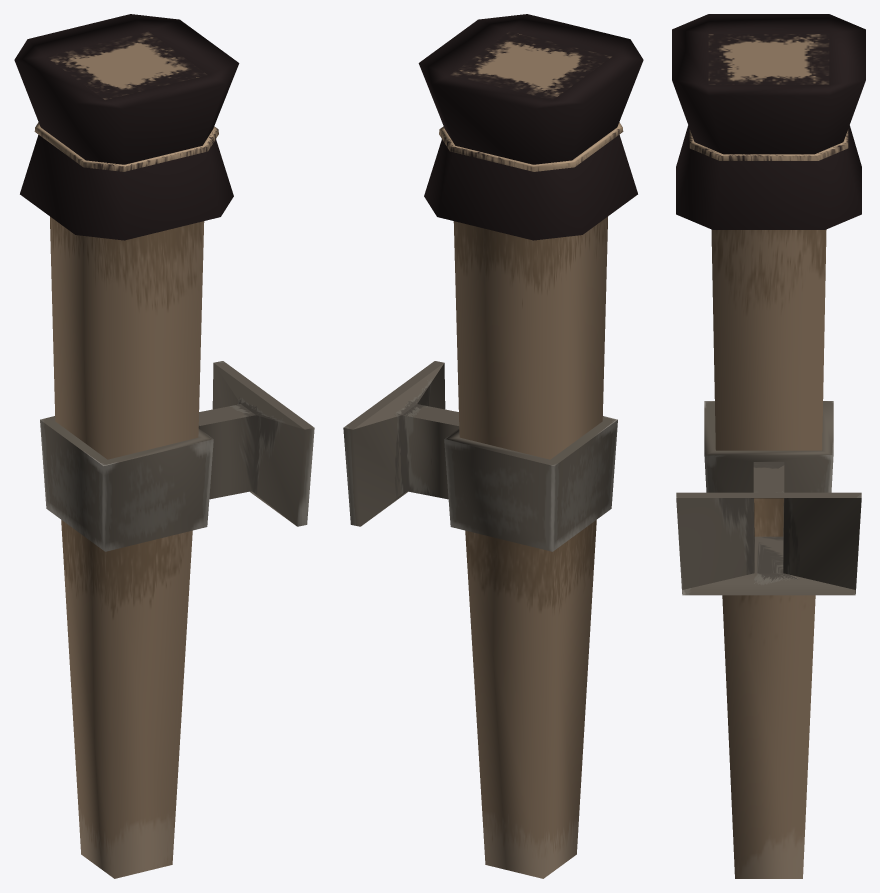
The model's file is prop_soihtusein.fbx.
The picture shows the model from 3 angles, left to right: view 1: azimuth 30°, elevation 25°; view 2: azimuth 150°, elevation 25°; view 3: azimuth 270°, elevation 25°; orthographic projection.
Parts seen in each view (by area): view 1: prop_soihtuseina; view 2: prop_soihtuseina; view 3: prop_soihtuseina.
Part boxes in pixels (x1,y1,x2,y2): prop_soihtuseina: (14, 14, 314, 878); prop_soihtuseina: (343, 14, 643, 878); prop_soihtuseina: (672, 14, 865, 878).
Bounding box in the file's own units: 59.27 × 201 × 43.63.
